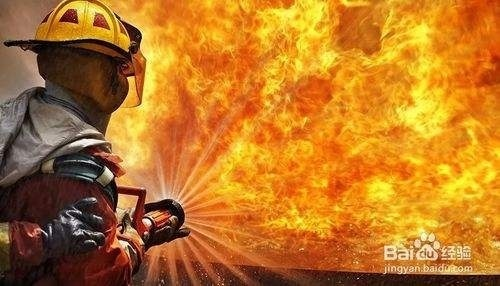fire: (85, 0, 499, 255)
